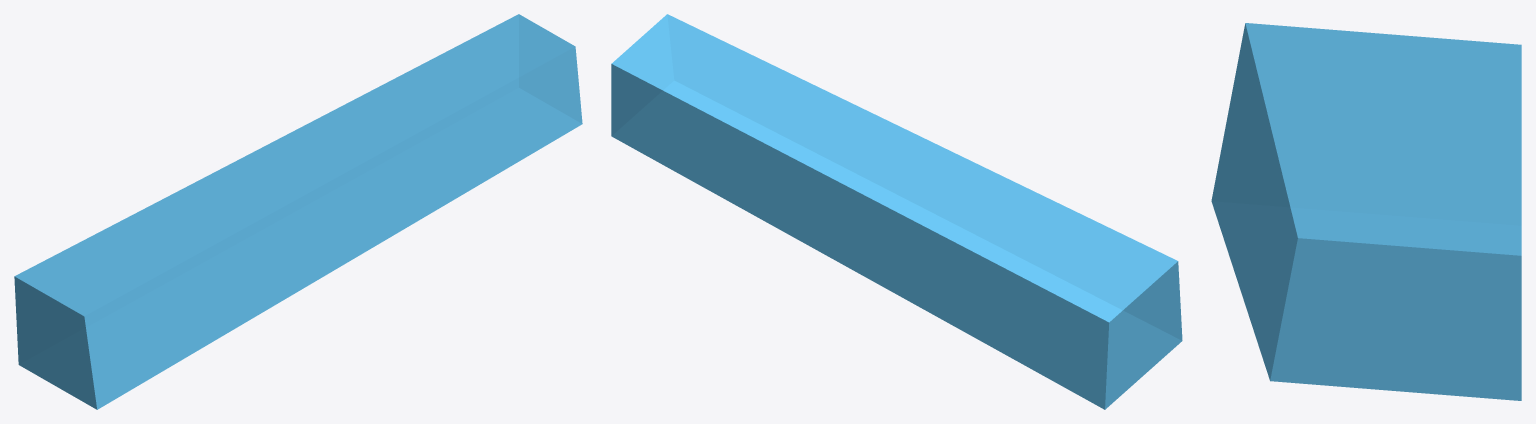
The model's file is Event_420107950_HErechit_8.fbx.
3 renders of one model, left to right at view 1: azimuth 30°, elevation 25°; view 2: azimuth 150°, elevation 25°; view 3: azimuth 270°, elevation 25°, orthographic. The views are drawn at different scales.
Parts seen in each view (by area): view 1: Model; view 2: Model; view 3: Model.
Boxes of the visible parts, bbox=[...] form: Model: bbox=[14, 14, 582, 409]; Model: bbox=[611, 14, 1182, 409]; Model: bbox=[1211, 23, 1521, 400].
Size of the model in its own units: 2.39 by 1.08 by 0.6461.
